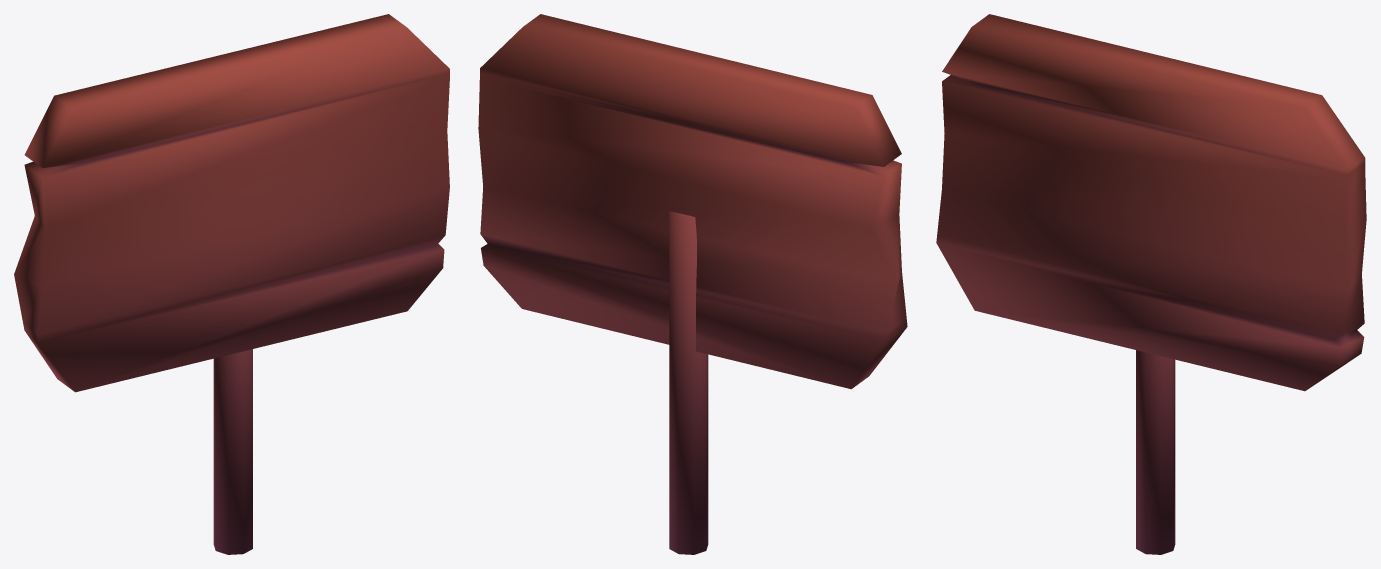
Rendered from Sign.fbx.
The picture shows the model from 3 angles, left to right: view 1: azimuth 30°, elevation 25°; view 2: azimuth 150°, elevation 25°; view 3: azimuth 330°, elevation 25°; orthographic projection.
Visible parts, largest first — view 1: Sign; view 2: Sign; view 3: Sign.
Part boxes in pixels (<box>): Sign: <box>14,14,449,554</box>; Sign: <box>478,14,907,554</box>; Sign: <box>936,14,1366,554</box>.
Bounding box in the file's own units: 270 × 300 × 24.94.
